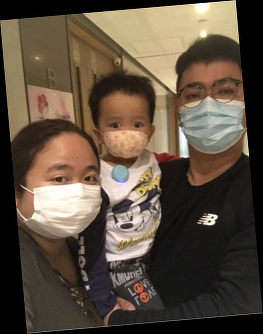with_mask: (19, 161, 103, 242), (178, 76, 246, 156), (100, 112, 152, 161)
